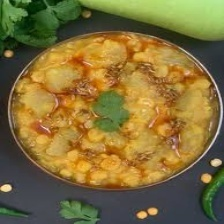dal: (6, 30, 223, 192)
